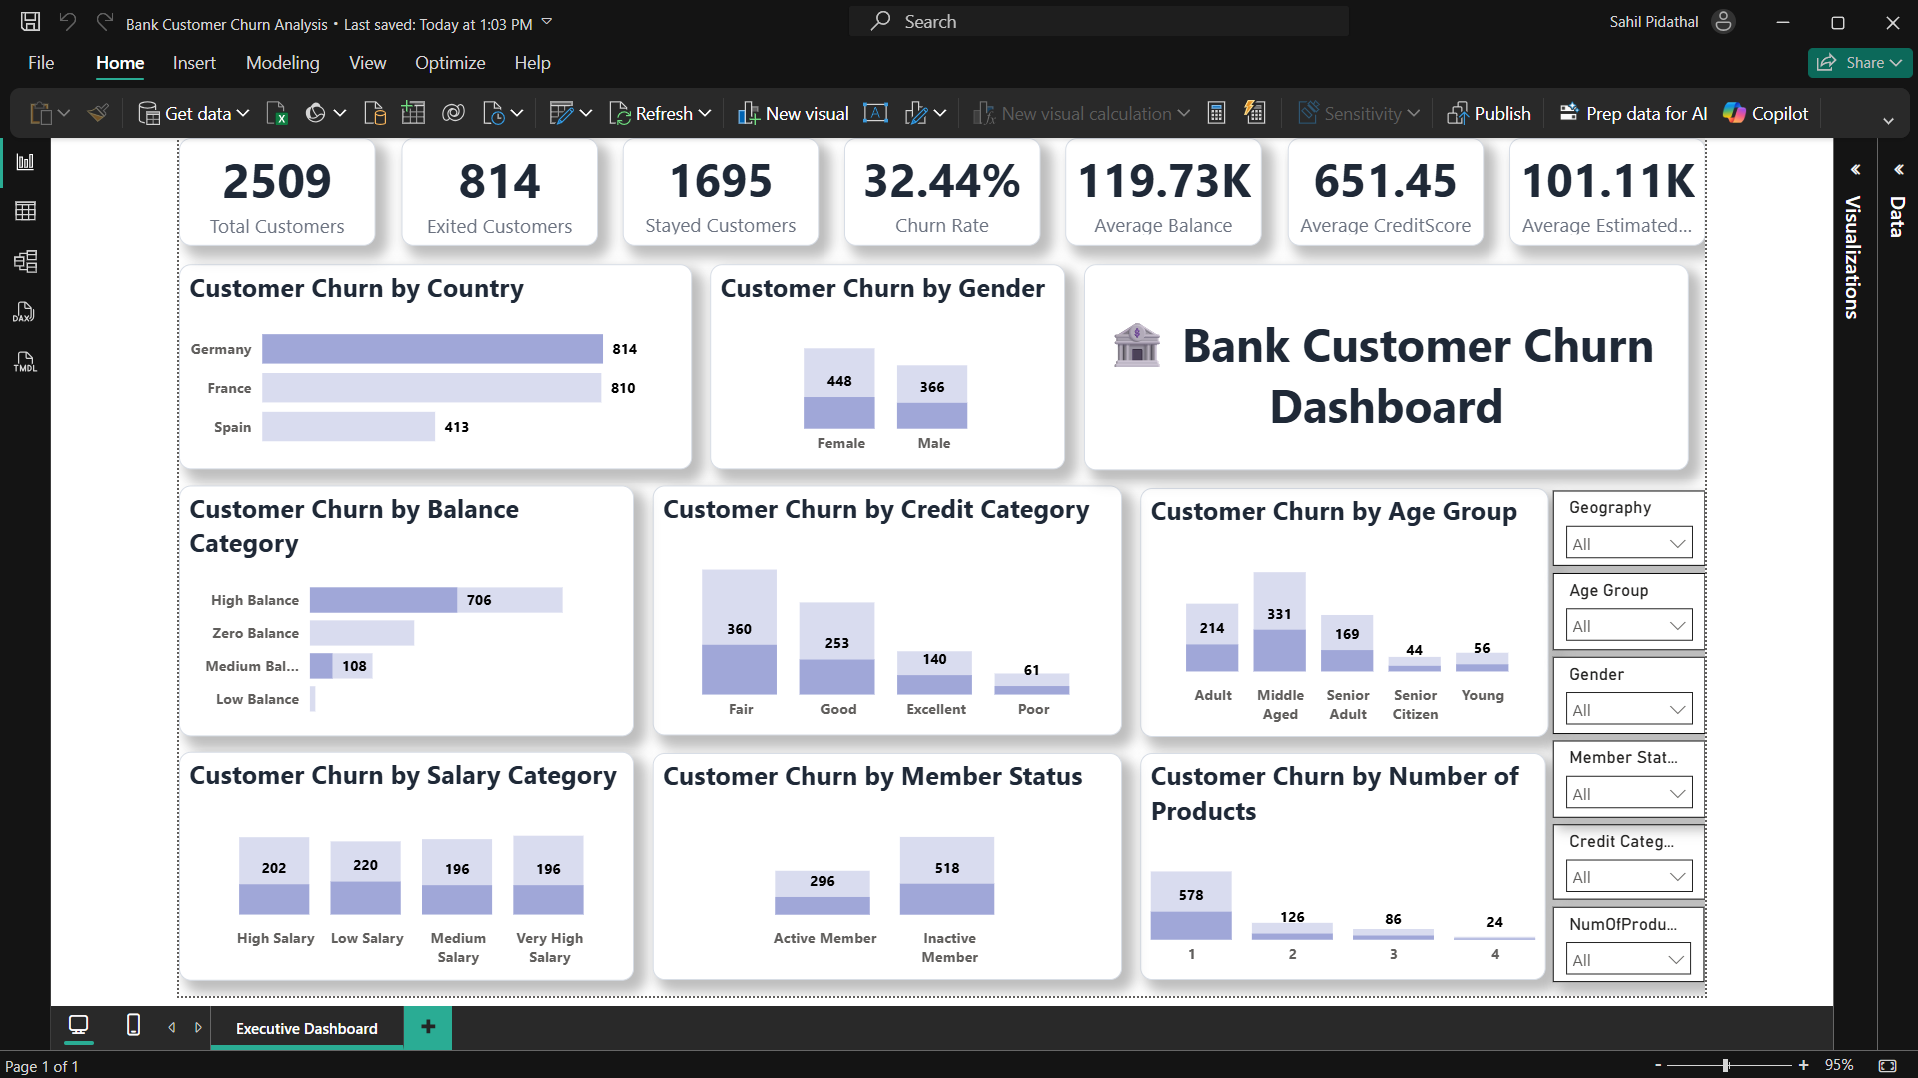

Layout of this report page (visuals, bound fields, positions):
{"tool":"powerbi","page":{"name":"Executive Dashboard","canvas":[1280,720],"ordinal":0},"visuals":[{"type":"card","fields":{"Values":["Bank Customers.Exited Customers"]},"box":[186.2,-0.4,165,90],"z":0},{"type":"card","fields":{"Values":["Bank Customers.Stayed Customers"]},"box":[372.1,-0.4,165,90],"z":1000},{"type":"card","fields":{"Values":["Bank Customers.Churn Rate"]},"box":[557.9,-0.4,165,90],"z":2000},{"type":"card","fields":{"Values":["Bank Customers.Average Balance"]},"box":[743.7,-0.4,165,90],"z":3000},{"type":"clusteredBarChart","title":"Customer Churn by Country","fields":{"Category":["Bank Customers.Geography"],"Y":["Bank Customers.Exited Customers"]},"box":[0,106,430.1,172.1],"z":4000},{"type":"clusteredColumnChart","title":"Customer Churn by Gender","fields":{"Category":["Bank Customers.Gender"],"Y":["Bank Customers.Exited Customers"]},"box":[445.5,106,298,172.1],"z":5000},{"type":"clusteredColumnChart","title":"Customer Churn by Age Group","fields":{"Category":["Bank Customers.Age Group"],"Y":["Bank Customers.Exited Customers"]},"box":[806.1,293.6,342.1,209],"z":6000},{"type":"clusteredColumnChart","title":"Customer Churn by Number of Products","fields":{"Category":["Bank Customers.NumOfProducts"],"Y":["Bank Customers.Exited Customers"]},"box":[806.6,516.2,340.4,190.8],"z":7000},{"type":"clusteredColumnChart","title":"Customer Churn by Credit Category","fields":{"Category":["Bank Customers.Credit Category"],"Y":["Bank Customers.Exited Customers"]},"box":[396.8,291.7,394,209.5],"z":8000},{"type":"clusteredBarChart","title":"Customer Churn by Balance Category","fields":{"Category":["Bank Customers.Balance Category"],"Y":["Bank Customers.Exited Customers"]},"box":[0,291,381.5,210.7],"z":9000},{"type":"clusteredColumnChart","title":"Customer Churn by Salary Category","fields":{"Category":["Bank Customers.Salary Category"],"Y":["Bank Customers.Exited Customers"]},"box":[0.4,514.6,381.7,191.7],"z":10000},{"type":"clusteredColumnChart","title":"Customer Churn by Member Status","fields":{"Category":["Bank Customers.Member Status"],"Y":["Bank Customers.Exited Customers"]},"box":[397.4,516.2,394,190.8],"z":11000},{"type":"slicer","fields":{"Values":["Bank Customers.Geography"]},"box":[1151.9,296.1,128.1,63.4],"z":12000},{"type":"card","fields":{"Values":["Bank Customers.Average EstimatedSalary"]},"box":[1115.4,-0.4,165,90],"z":13000},{"type":"card","fields":{"Values":["Bank Customers.Total Customer"]},"box":[0.4,-0.4,165,90],"z":14000},{"type":"card","fields":{"Values":["Bank Customers.Average CreditScore"]},"box":[929.6,-0.4,165,90],"z":15000},{"type":"slicer","fields":{"Values":["Bank Customers.Age Group"]},"box":[1151.9,365,128.1,64.7],"z":16000},{"type":"slicer","fields":{"Values":["Bank Customers.Credit Category"]},"box":[1151.9,575.5,128.1,63.4],"z":17000},{"type":"slicer","fields":{"Values":["Bank Customers.Gender"]},"box":[1151.9,435.1,128.1,64.7],"z":18000},{"type":"slicer","fields":{"Values":["Bank Customers.NumOfProducts"]},"box":[1151.9,644.4,126.9,63.4],"z":19000},{"type":"slicer","fields":{"Values":["Bank Customers.Member Status"]},"box":[1151.9,505.3,128.1,64.7],"z":20000},{"type":"card","fields":{"Values":["Bank Customers.Dashboard Title"]},"box":[758.8,105.7,507.5,172.9],"z":21000}]}

Visuals, with their boxes on the page's 1280x720 design canvas (x1, y1, x2, y2). These are canvas units, not pixel positions in the 1918x1078 screenshot, which may show the page scaled, cropped or inside an application window:
card - Bank Customers.Exited Customers: [186, 0, 351, 90]
card - Bank Customers.Stayed Customers: [372, 0, 537, 90]
card - Bank Customers.Churn Rate: [558, 0, 723, 90]
card - Bank Customers.Average Balance: [744, 0, 909, 90]
"Customer Churn by Country" clusteredBarChart: [0, 106, 430, 278]
"Customer Churn by Gender" clusteredColumnChart: [446, 106, 744, 278]
"Customer Churn by Age Group" clusteredColumnChart: [806, 294, 1148, 503]
"Customer Churn by Number of Products" clusteredColumnChart: [807, 516, 1147, 707]
"Customer Churn by Credit Category" clusteredColumnChart: [397, 292, 791, 501]
"Customer Churn by Balance Category" clusteredBarChart: [0, 291, 382, 502]
"Customer Churn by Salary Category" clusteredColumnChart: [0, 515, 382, 706]
"Customer Churn by Member Status" clusteredColumnChart: [397, 516, 791, 707]
slicer - Bank Customers.Geography: [1152, 296, 1280, 360]
card - Bank Customers.Average EstimatedSalary: [1115, 0, 1280, 90]
card - Bank Customers.Total Customer: [0, 0, 165, 90]
card - Bank Customers.Average CreditScore: [930, 0, 1095, 90]
slicer - Bank Customers.Age Group: [1152, 365, 1280, 430]
slicer - Bank Customers.Credit Category: [1152, 576, 1280, 639]
slicer - Bank Customers.Gender: [1152, 435, 1280, 500]
slicer - Bank Customers.NumOfProducts: [1152, 644, 1279, 708]
slicer - Bank Customers.Member Status: [1152, 505, 1280, 570]
card - Bank Customers.Dashboard Title: [759, 106, 1266, 279]
